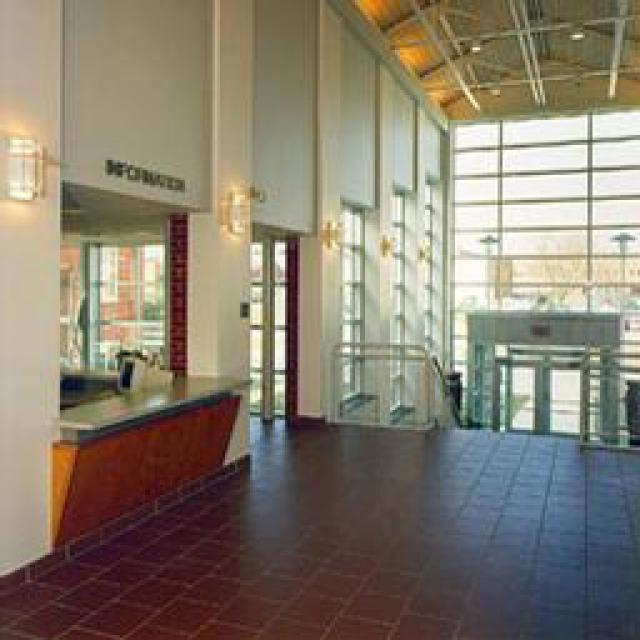2001: (60, 232, 165, 370), (340, 198, 362, 400), (390, 185, 402, 408)
ceiling beam: (347, 0, 638, 118), (60, 180, 208, 238)
counter bottom: (45, 365, 240, 562)
double door crop: (505, 362, 580, 435)
floor -X: (0, 395, 638, 638)
gate number: (462, 310, 618, 440), (248, 228, 295, 418)
glass: (445, 102, 638, 428)
lamp crop: (2, 130, 42, 198), (228, 182, 248, 230), (322, 212, 338, 248)
monitor crop: (112, 350, 152, 390)
wall clock: (162, 208, 210, 375)
